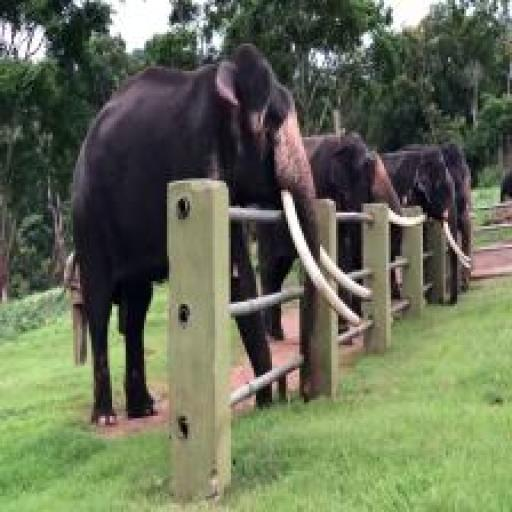Elephant: (60, 43, 321, 408), (322, 126, 407, 344), (393, 142, 460, 326), (441, 135, 477, 302)
